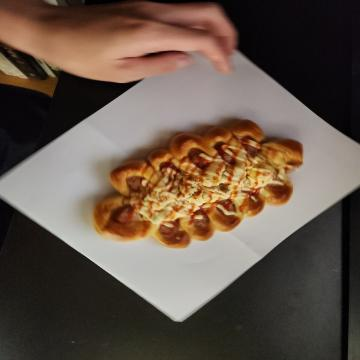pizza_bread: (117, 55, 250, 274)
